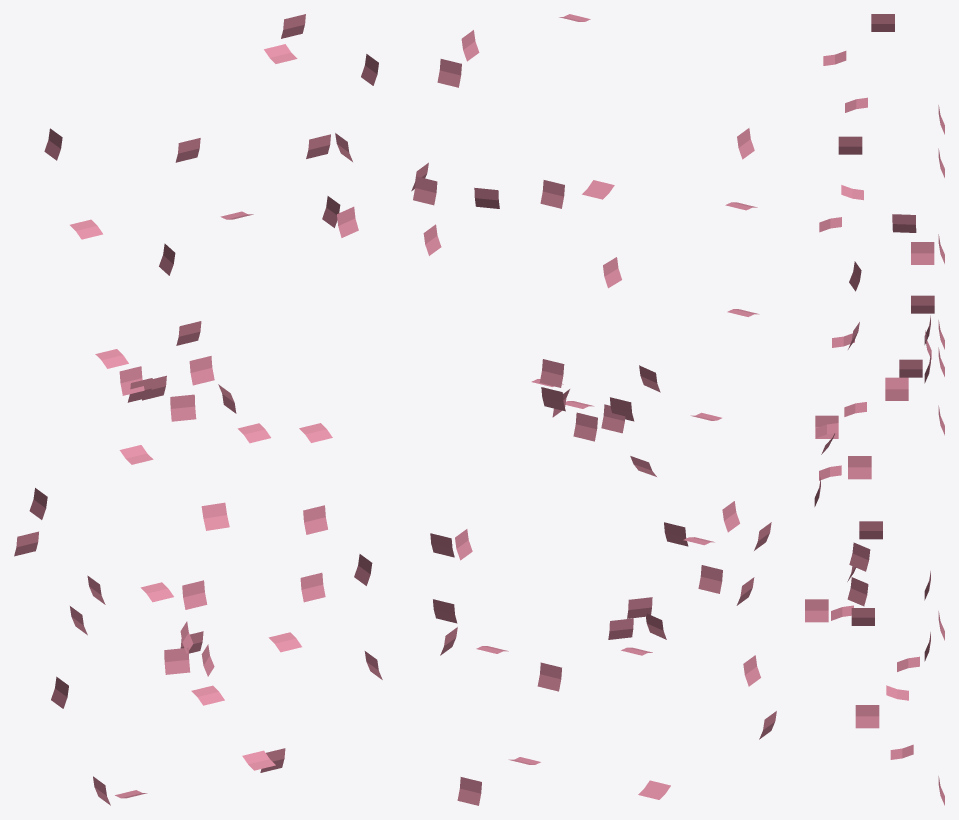
File: BookshelfStickyNotes.fbx
The picture shows the model from 3 angles, left to right: view 1: azimuth 30°, elevation 25°; view 2: azimuth 150°, elevation 25°; view 3: azimuth 270°, elevation 25°; orthographic projection. The views are drawn at different scales.
Parts seen in each view (by area): view 1: Shelf.001; view 2: Shelf.001; view 3: Shelf.001.
Boxes of the visible parts, x1,y1,x2,y2 form: Shelf.001: (14,14,382,805); Shelf.001: (411,14,776,805); Shelf.001: (805,14,944,805).
Size of the model in its own units: 88.09 by 203 by 35.57.
